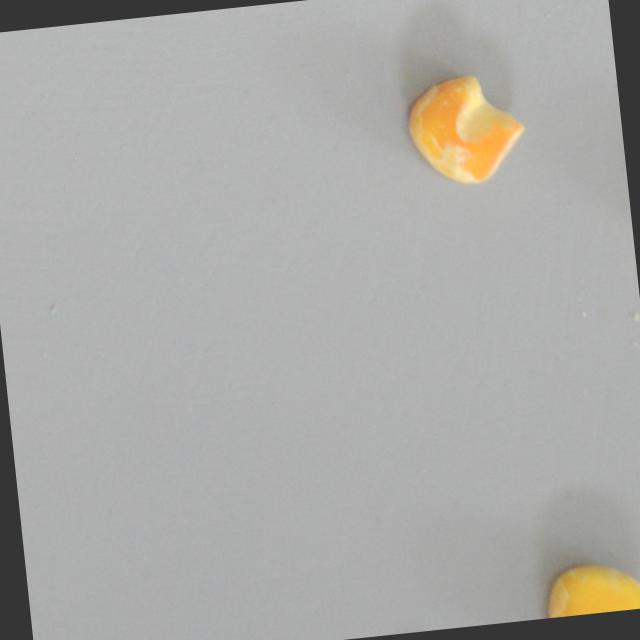pelicula: (403, 67, 531, 190)
